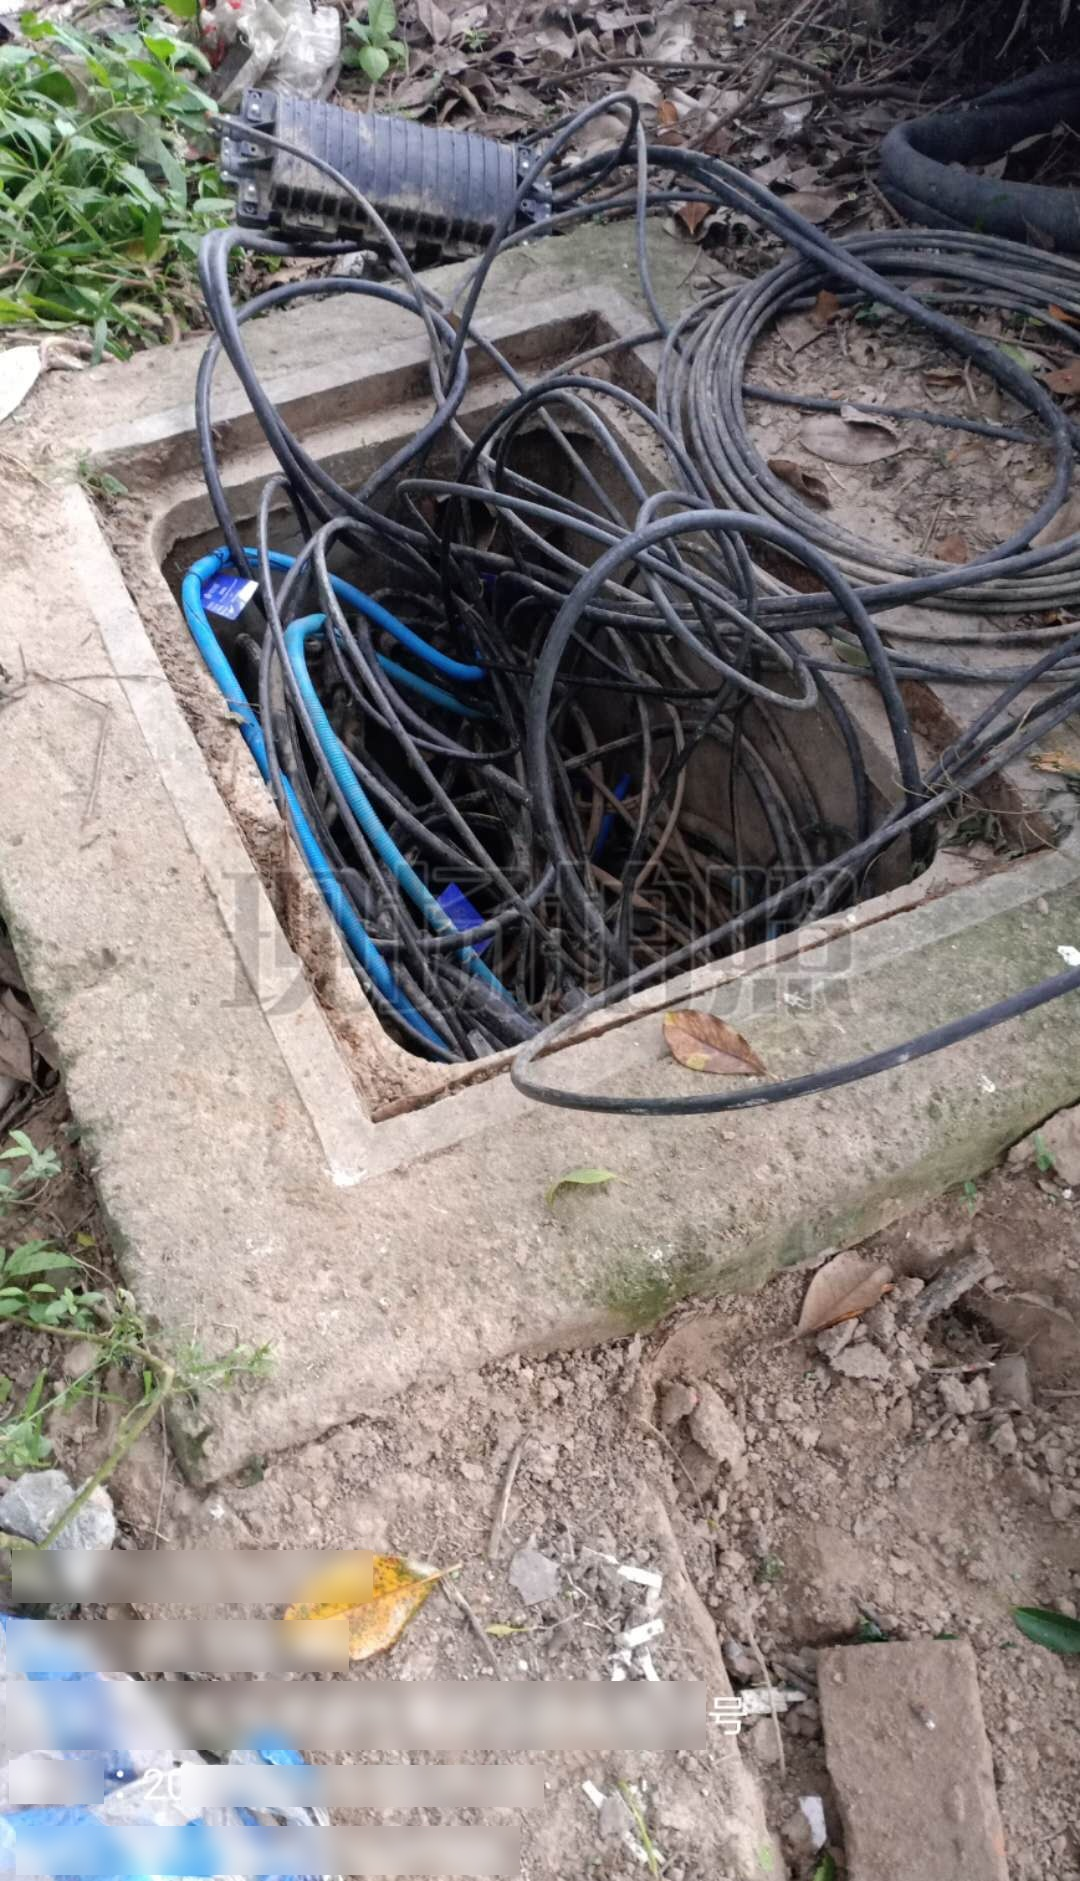lose: (34, 283, 1080, 1181)
